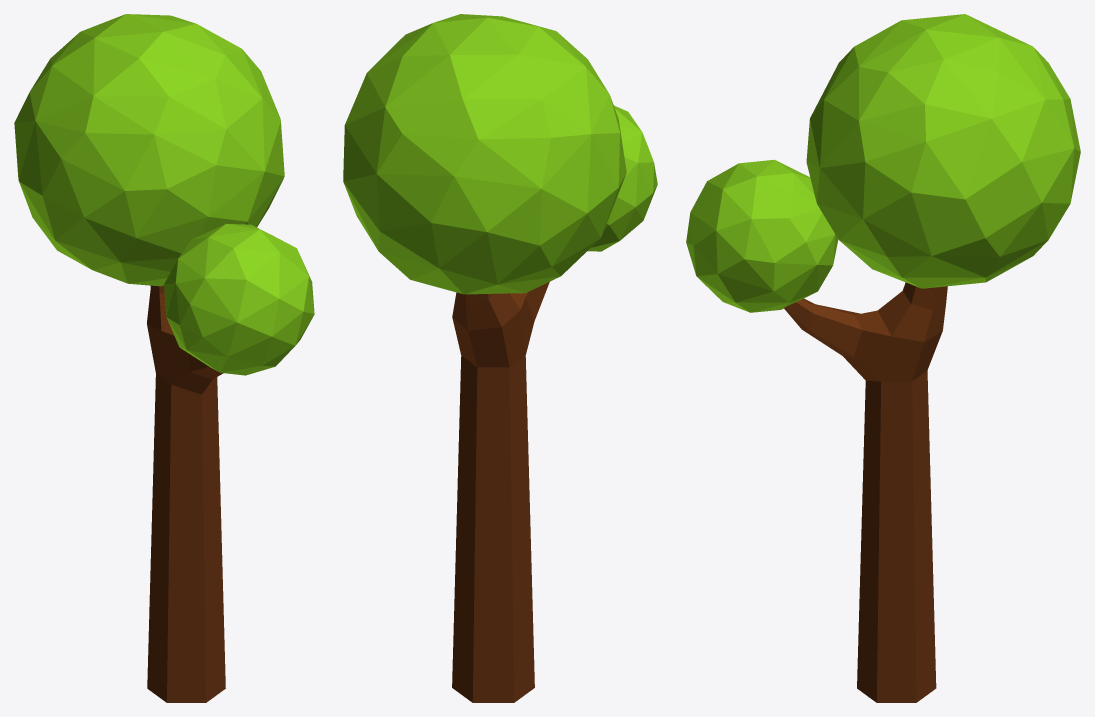
Rendered from centeredroundtree.fbx.
The picture shows the model from 3 angles, left to right: view 1: azimuth 30°, elevation 25°; view 2: azimuth 150°, elevation 25°; view 3: azimuth 270°, elevation 25°; orthographic projection. The views are drawn at different scales.
Parts seen in each view (by area): view 1: Cylinder.014; view 2: Cylinder.014; view 3: Cylinder.014.
Boxes of the visible parts, box(x1,y1,x2,y2) form: Cylinder.014: box(14, 14, 314, 702); Cylinder.014: box(343, 14, 657, 702); Cylinder.014: box(686, 14, 1080, 702).
Size of the model in its own units: 429 by 1130 by 618.
